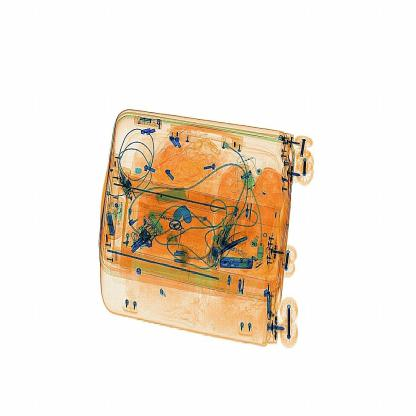pliers: (218, 232, 265, 258)
